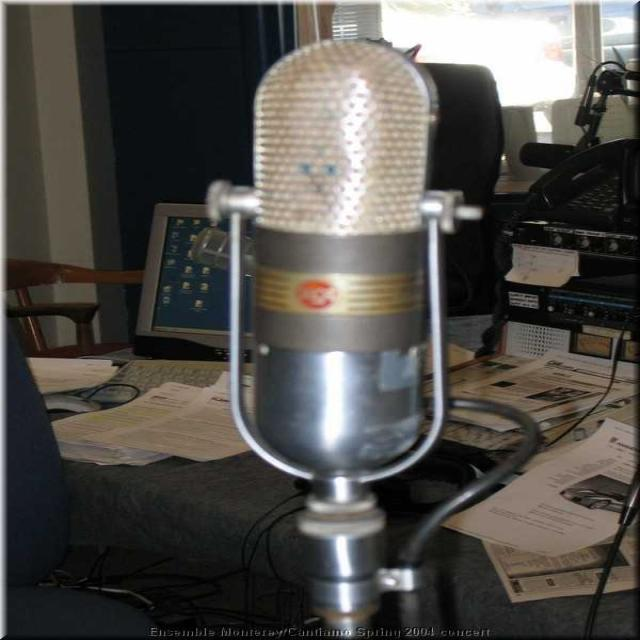microphone: (242, 44, 438, 487), (520, 132, 588, 170)
